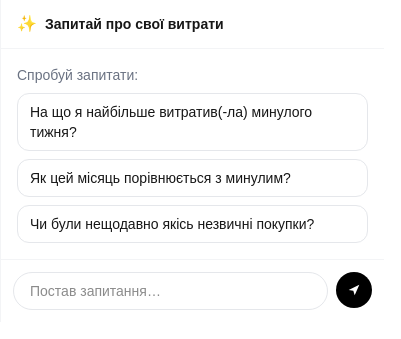
Test: AiPanel › shows the premium activation affordance instead of the input once quota is exceeded
The image size is (401, 339).
Click the button "На що я найбільше витратив(-ла) минулого тижня?": (192, 122) x1=17 y1=93 x2=368 y2=151
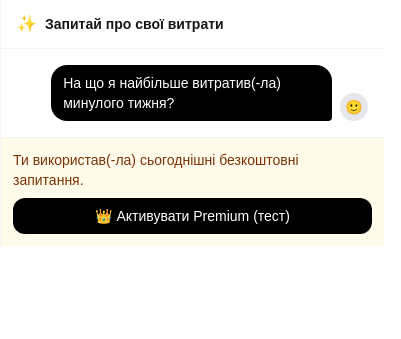
Expected: the field with placeholder "Постав запитання…" is not shown
Result: the text "використав(-ла) сьогоднішні безкоштовні запитання" is shown at x1=13 y1=152 x2=299 y2=188
Result: the button "👑 Активувати Premium (тест)" is enabled at x1=13 y1=198 x2=372 y2=234
